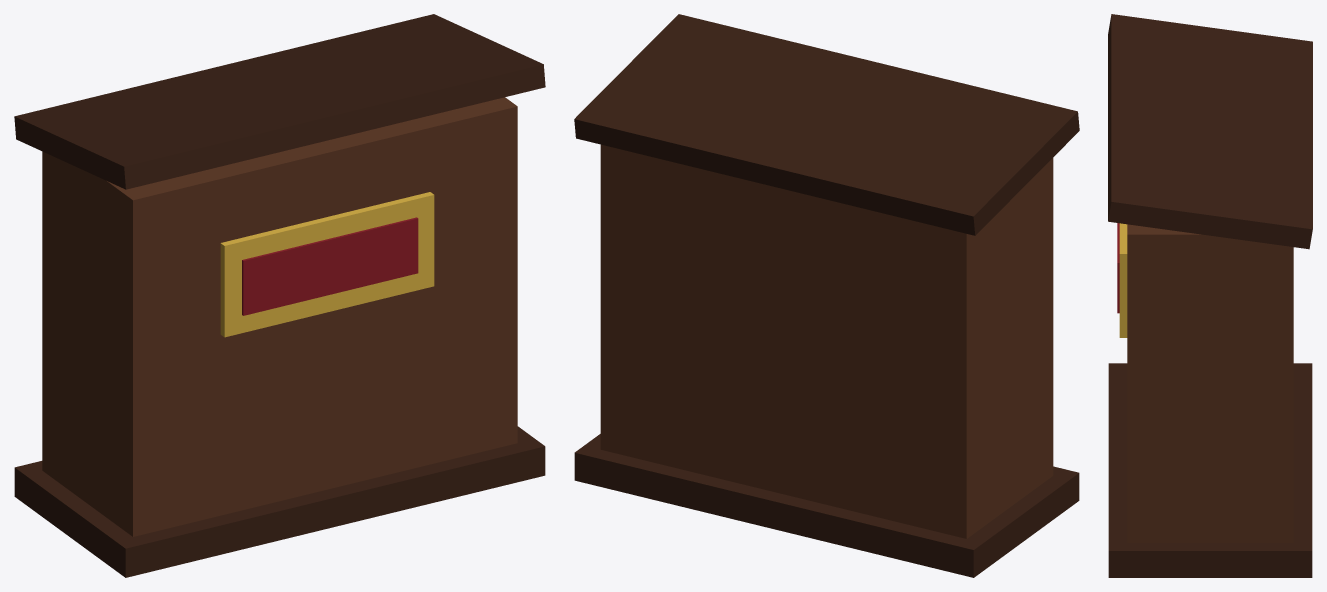
File: auction_podium.glb
The picture shows the model from 3 angles, left to right: view 1: azimuth 30°, elevation 25°; view 2: azimuth 150°, elevation 25°; view 3: azimuth 270°, elevation 25°; orthographic projection. The views are drawn at different scales.
Visible parts, largest first — view 1: body_auction_wood, top_auction_wood_dark, base_auction_wood_dark, plate_auction_gold, plate_plate_red; view 2: body_auction_wood, top_auction_wood_dark, base_auction_wood_dark; view 3: body_auction_wood, top_auction_wood_dark, base_auction_wood_dark, plate_auction_gold.
Part boxes in pixels (x1,y1,x2,y2): body_auction_wood: [42, 97, 517, 536]; top_auction_wood_dark: [14, 14, 545, 189]; base_auction_wood_dark: [14, 426, 545, 577]; plate_auction_gold: [220, 192, 434, 337]; plate_plate_red: [242, 217, 418, 315]; body_auction_wood: [600, 144, 1053, 538]; top_auction_wood_dark: [574, 14, 1079, 235]; base_auction_wood_dark: [574, 434, 1079, 577]; body_auction_wood: [1127, 224, 1293, 543]; top_auction_wood_dark: [1108, 14, 1312, 249]; base_auction_wood_dark: [1108, 363, 1312, 577]; plate_auction_gold: [1119, 223, 1127, 337].
Size of the model in its own units: 1.2 by 1.12 by 0.5528.
